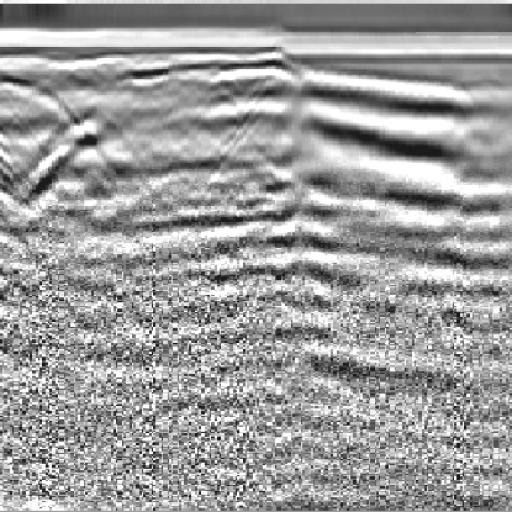metalic: (1, 51, 85, 282)
